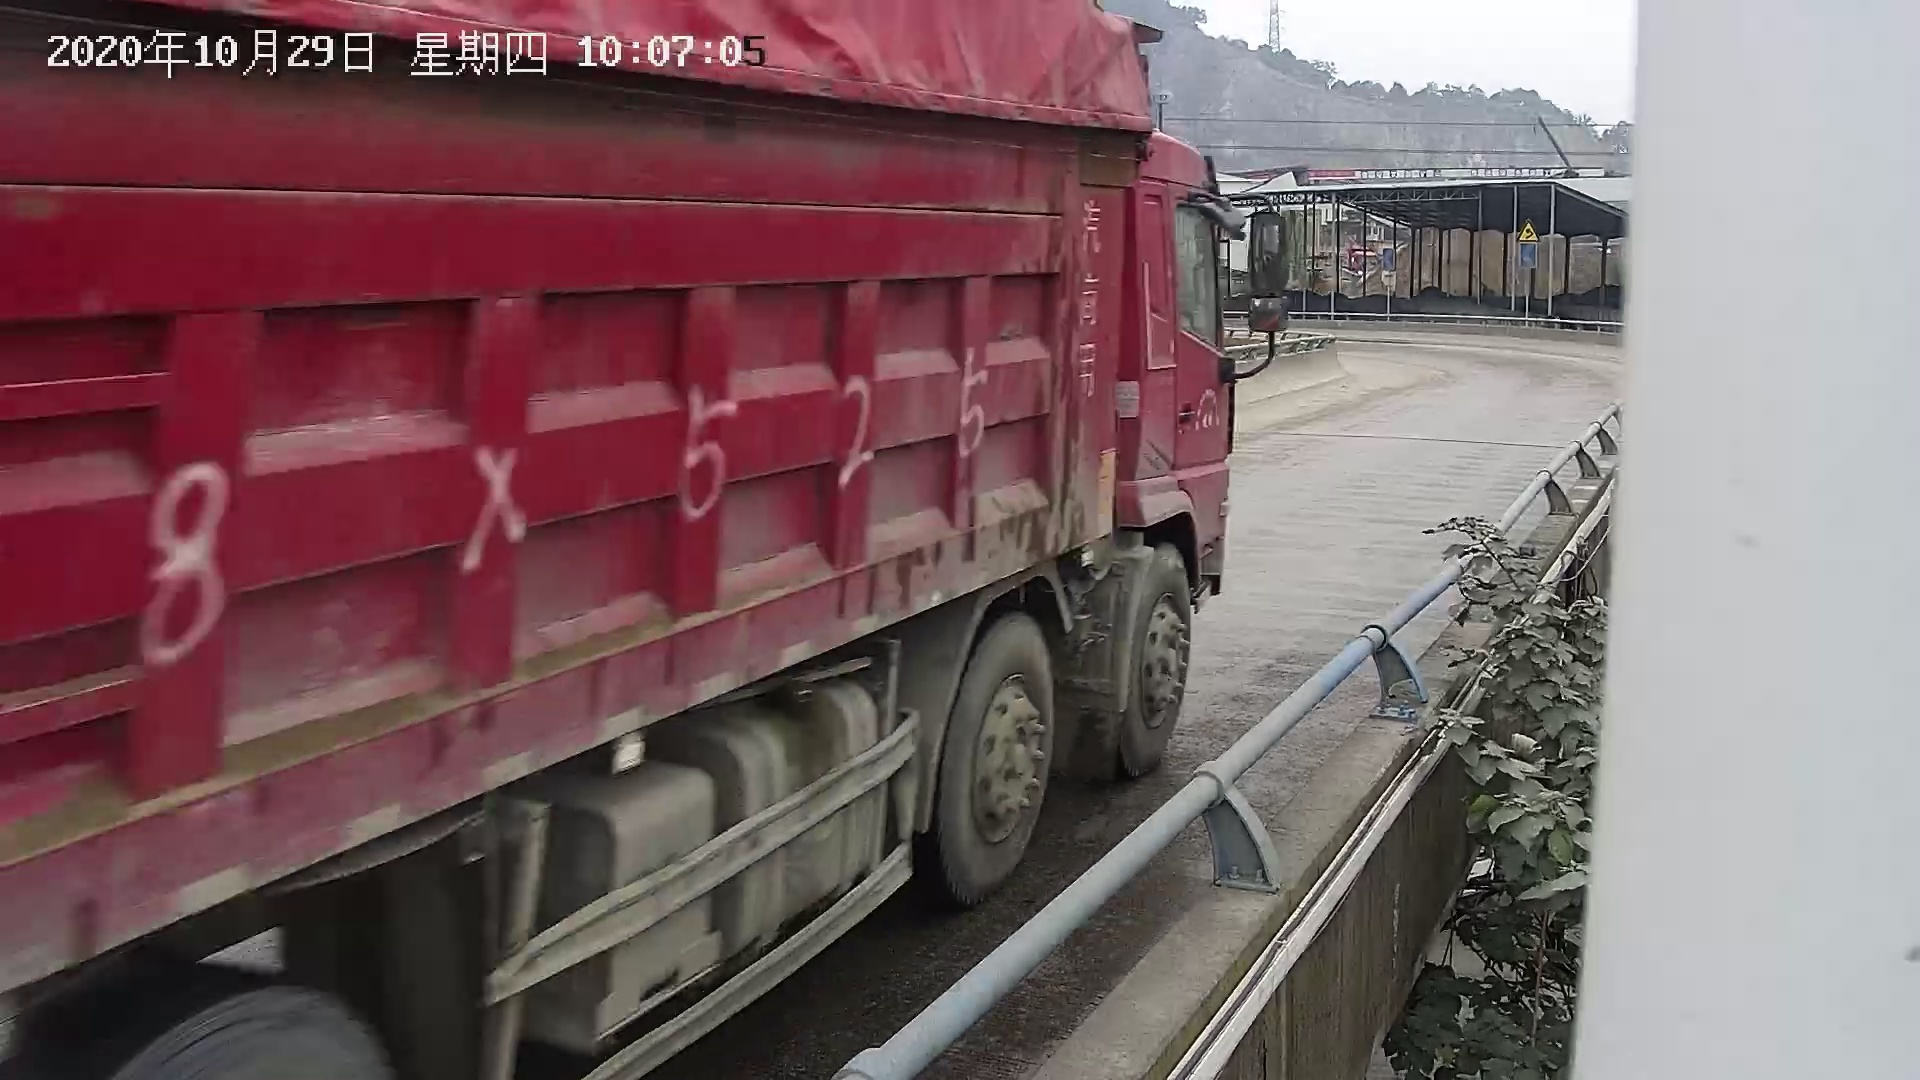4ATruck: (4, 12, 1288, 1080)
